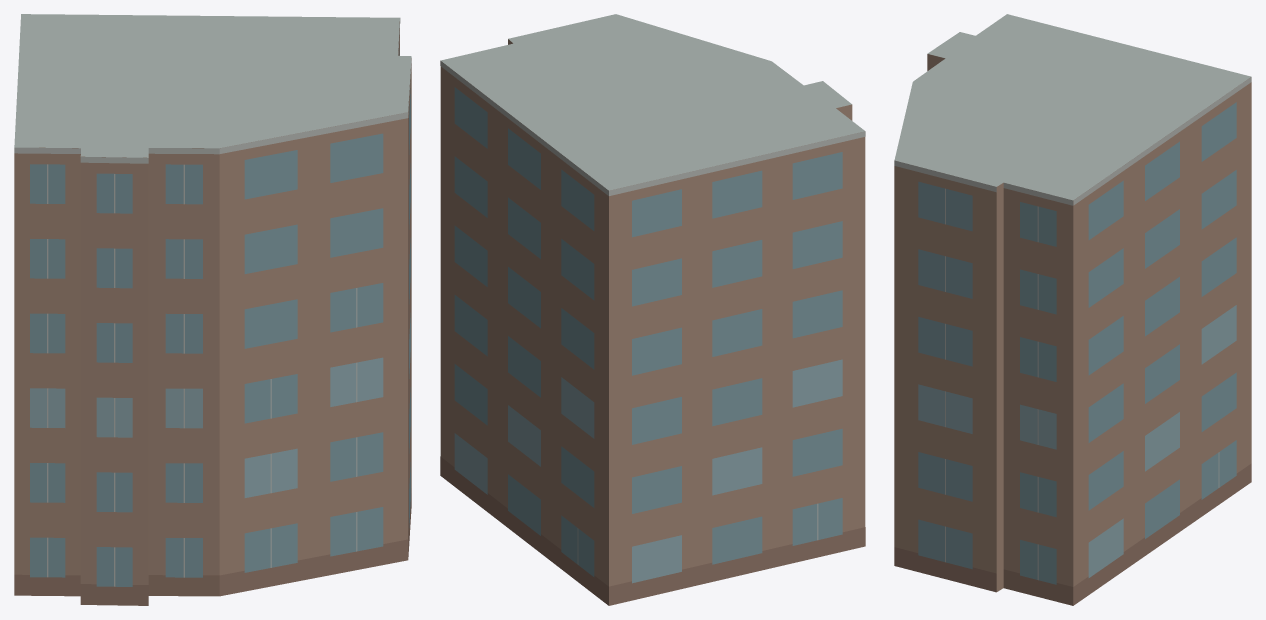
Rendered from survey-upis-32709981.glb.
The picture shows the model from 3 angles, left to right: view 1: azimuth 30°, elevation 25°; view 2: azimuth 150°, elevation 25°; view 3: azimuth 270°, elevation 25°; orthographic projection. The views are drawn at different scales.
Parts seen in each view (by area): view 1: survey-upis-32709981.tmp; view 2: survey-upis-32709981.tmp; view 3: survey-upis-32709981.tmp.
Part boxes in pixels (bbox=[...]): survey-upis-32709981.tmp: bbox=[14, 14, 411, 605]; survey-upis-32709981.tmp: bbox=[440, 14, 865, 605]; survey-upis-32709981.tmp: bbox=[894, 14, 1251, 605].
Size of the model in its own units: 18.05 by 18.3 by 14.62.
